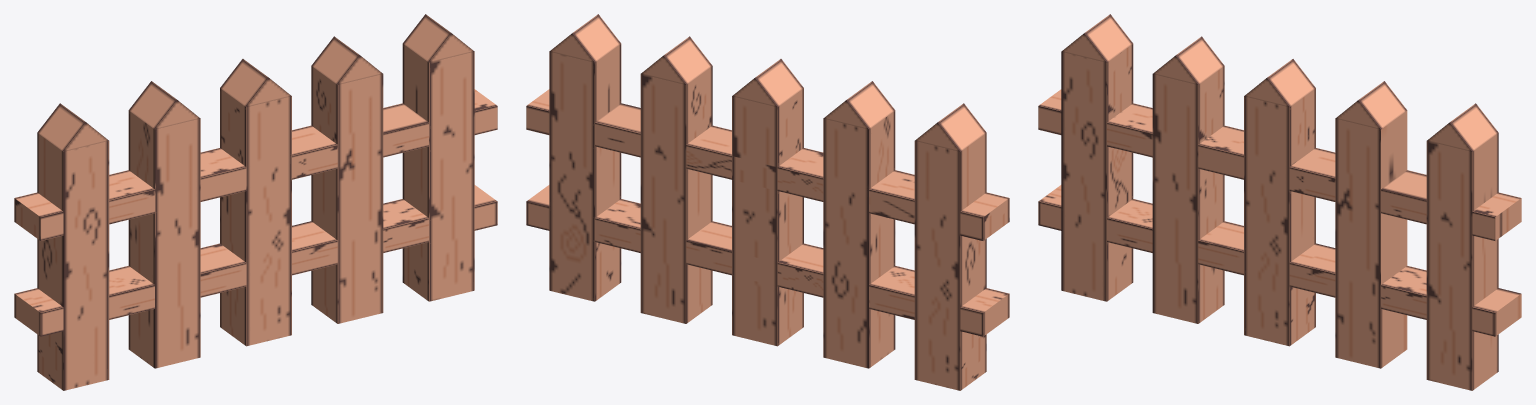
The model's file is Cerca Recta.fbx.
The picture shows the model from 3 angles, left to right: view 1: azimuth 30°, elevation 25°; view 2: azimuth 150°, elevation 25°; view 3: azimuth 330°, elevation 25°; orthographic projection.
Parts seen in each view (by area): view 1: Cerca Recta; view 2: Cerca Recta; view 3: Cerca Recta.
Part boxes in pixels (<box>): Cerca Recta: <box>14,14,497,390</box>; Cerca Recta: <box>526,14,1009,390</box>; Cerca Recta: <box>1038,14,1521,390</box>.
Bounding box in the file's own units: 1000 × 100 × 550.
Materials: 1 (1 with a texture image).
